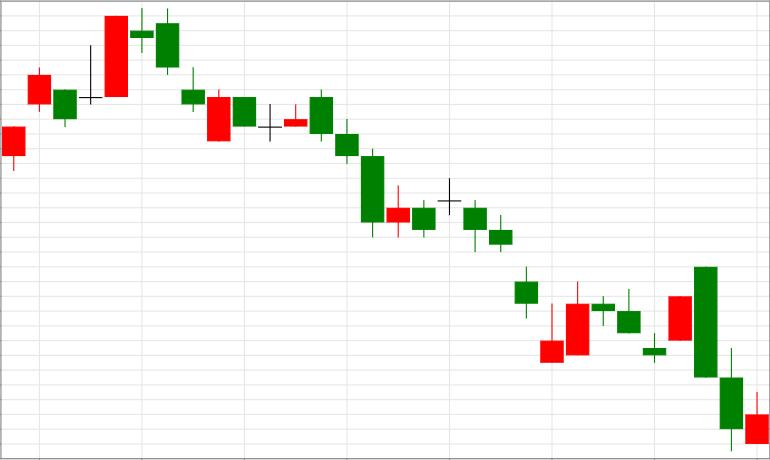inverse_hammer_rise: (438, 177, 564, 363)
